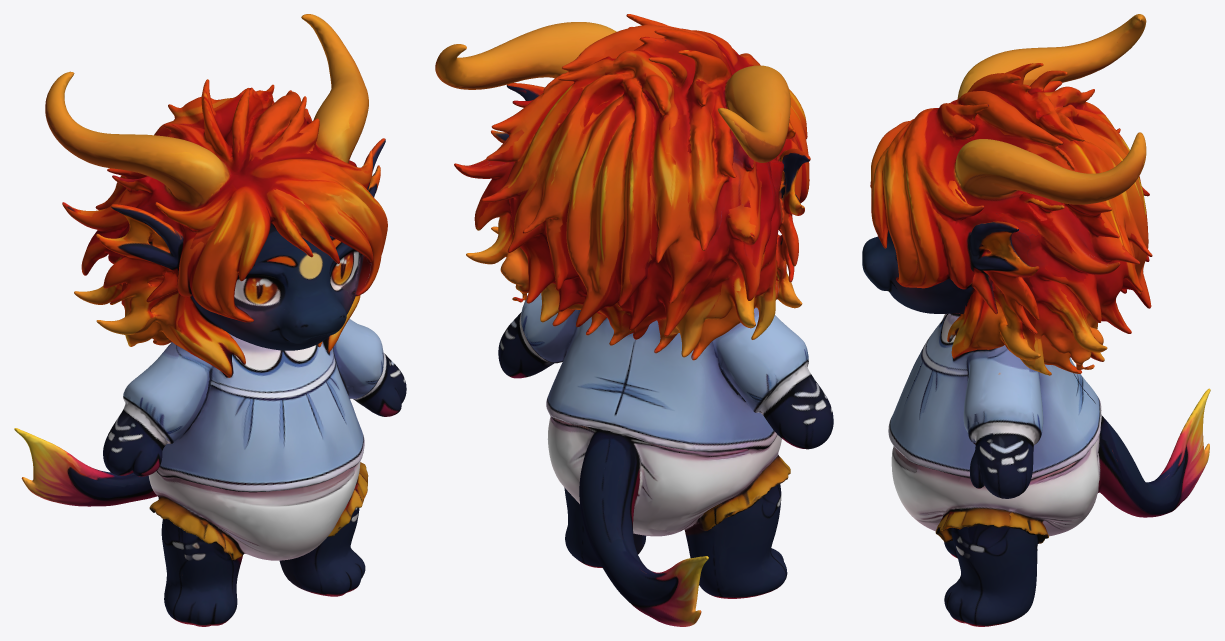
Rendered from khana_doll.glb.
3 renders of one model, left to right at view 1: azimuth 30°, elevation 25°; view 2: azimuth 150°, elevation 25°; view 3: azimuth 270°, elevation 25°, orthographic. The views are drawn at different scales.
Parts seen in each view (by area): view 1: temp_mesh.ply; view 2: temp_mesh.ply; view 3: temp_mesh.ply.
Boxes of the visible parts, x1,y1,x2,y2 form: temp_mesh.ply: (14,14,406,626); temp_mesh.ply: (435,14,833,626); temp_mesh.ply: (862,14,1210,626).
Bounding box in the file's own units: 3.19 × 5.16 × 3.18.
Materials: 1 (1 with a texture image).
